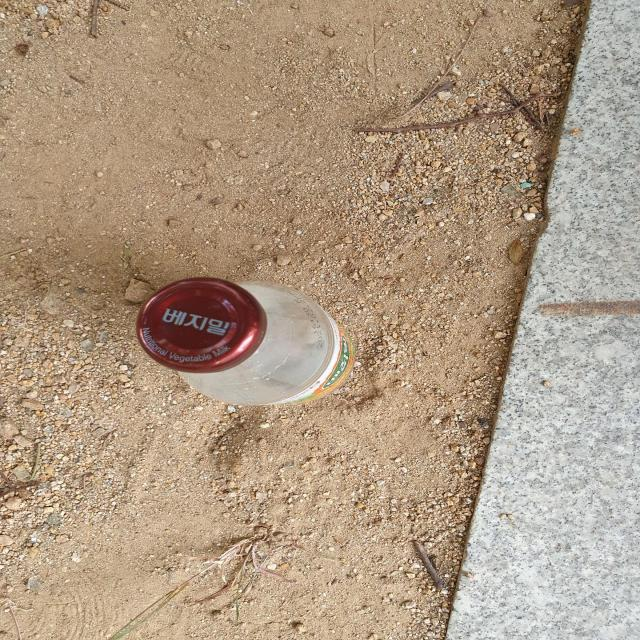glass: (136, 277, 353, 406)
